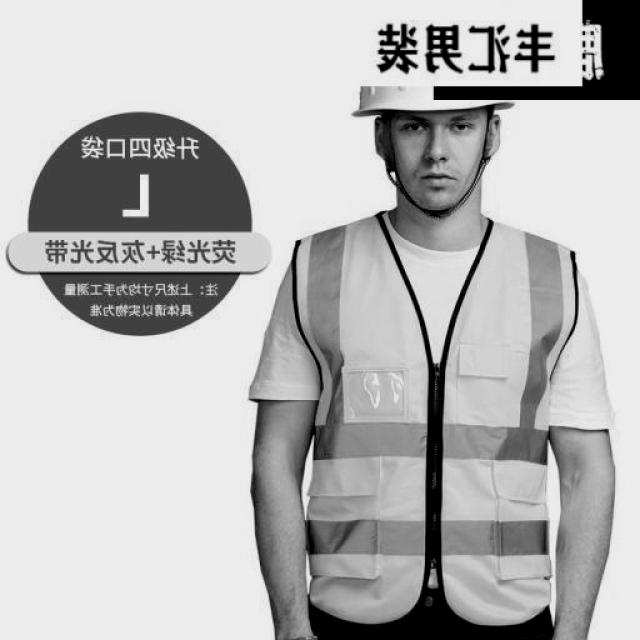face_nomask: (396, 116, 482, 198)
head_helmet: (350, 74, 520, 128)
person: (242, 79, 620, 640)
vest: (290, 203, 582, 626)
